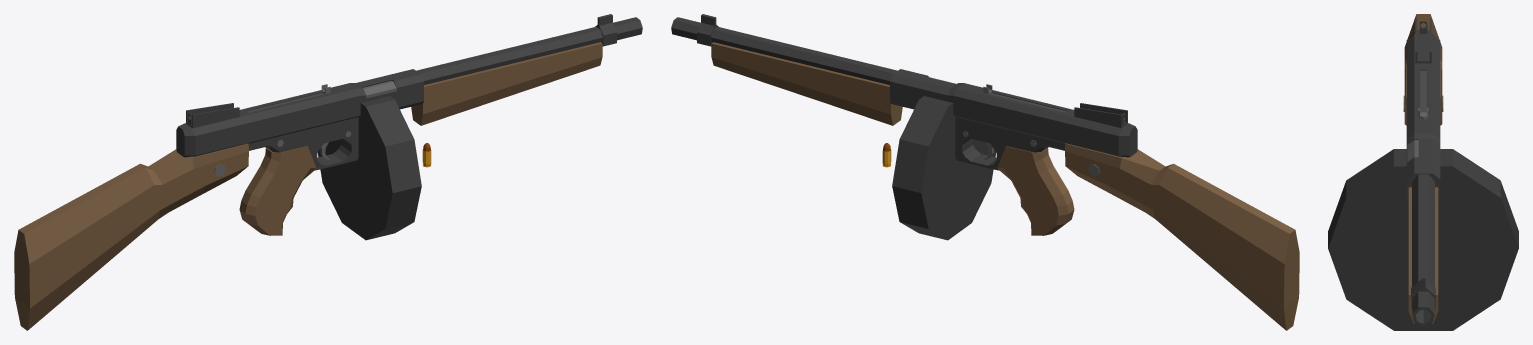
The model's file is Thompson.fbx.
3 views of the same model, side by side, from view 1: azimuth 30°, elevation 25°; view 2: azimuth 150°, elevation 25°; view 3: azimuth 270°, elevation 25° (orthographic). The views are drawn at different scales.
Parts seen in each view (by area): view 1: Thompson, Mag; view 2: Thompson, Mag; view 3: Mag, Thompson.
Part boxes in pixels (x1,y1,x2,y2): Thompson: (14,14,642,330); Mag: (317,96,421,240); Thompson: (671,14,1299,330); Mag: (892,96,996,240); Mag: (1328,149,1518,330); Thompson: (1403,14,1443,326).
Bounding box in the file's own units: 976 × 265 × 212.
Materials: 1 (1 with a texture image).
